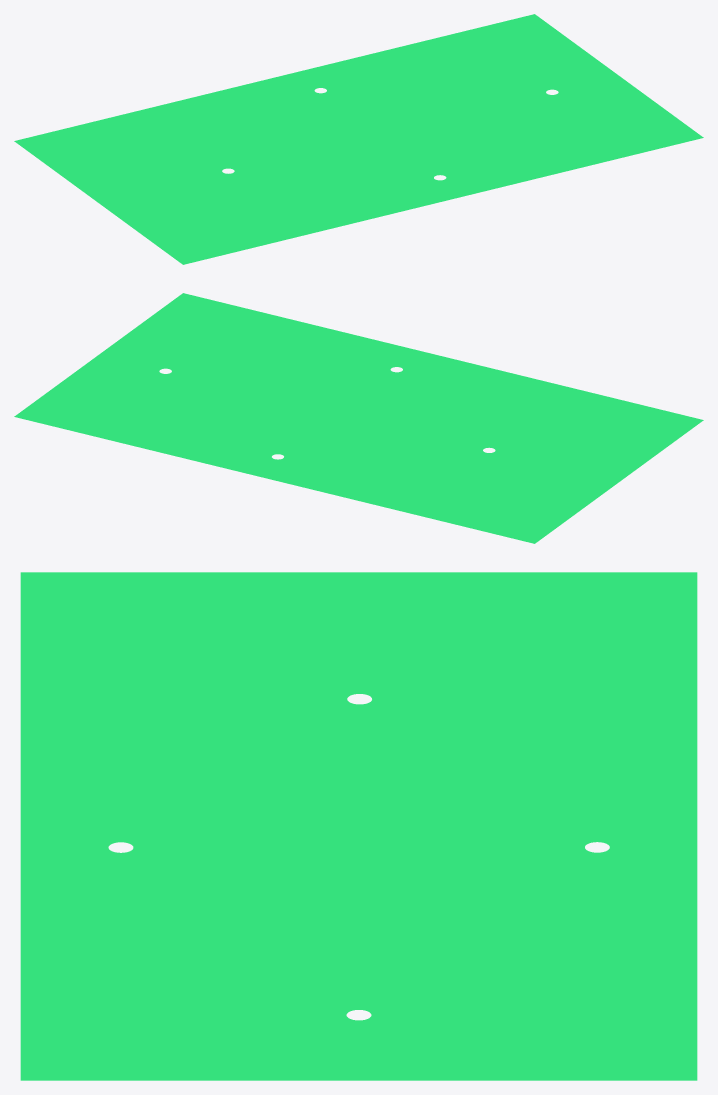
The model's file is ground.obj.
3 views of the same model, one above another, from view 1: azimuth 30°, elevation 25°; view 2: azimuth 150°, elevation 25°; view 3: azimuth 270°, elevation 25° (orthographic). The views are drawn at different scales.
Parts seen in each view (by area): view 1: Mesh1 Model; view 2: Mesh1 Model; view 3: Mesh1 Model.
Part boxes in pixels (x1=…): Mesh1 Model: x1=14, y1=14, x2=703, y2=264; Mesh1 Model: x1=14, y1=293, x2=703, y2=543; Mesh1 Model: x1=20, y1=572, x2=697, y2=1080.
Size of the model in its own units: 48 by 0 by 27.
